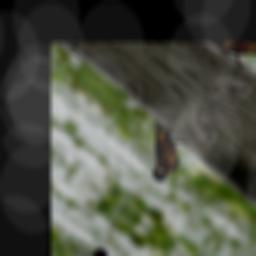Swallow: (127, 114, 197, 187)
